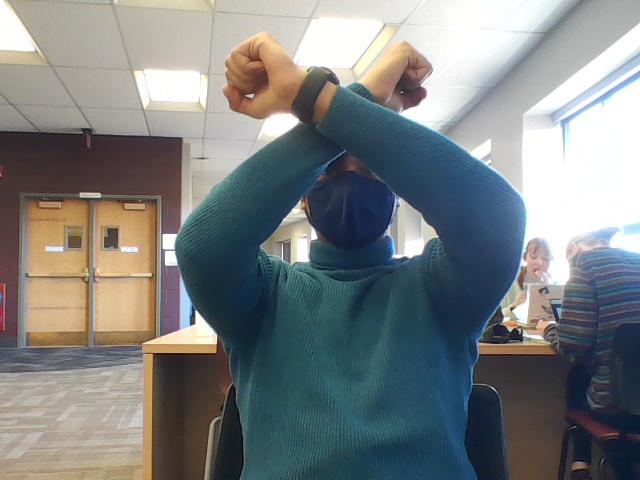cancel: (213, 10, 480, 243)
